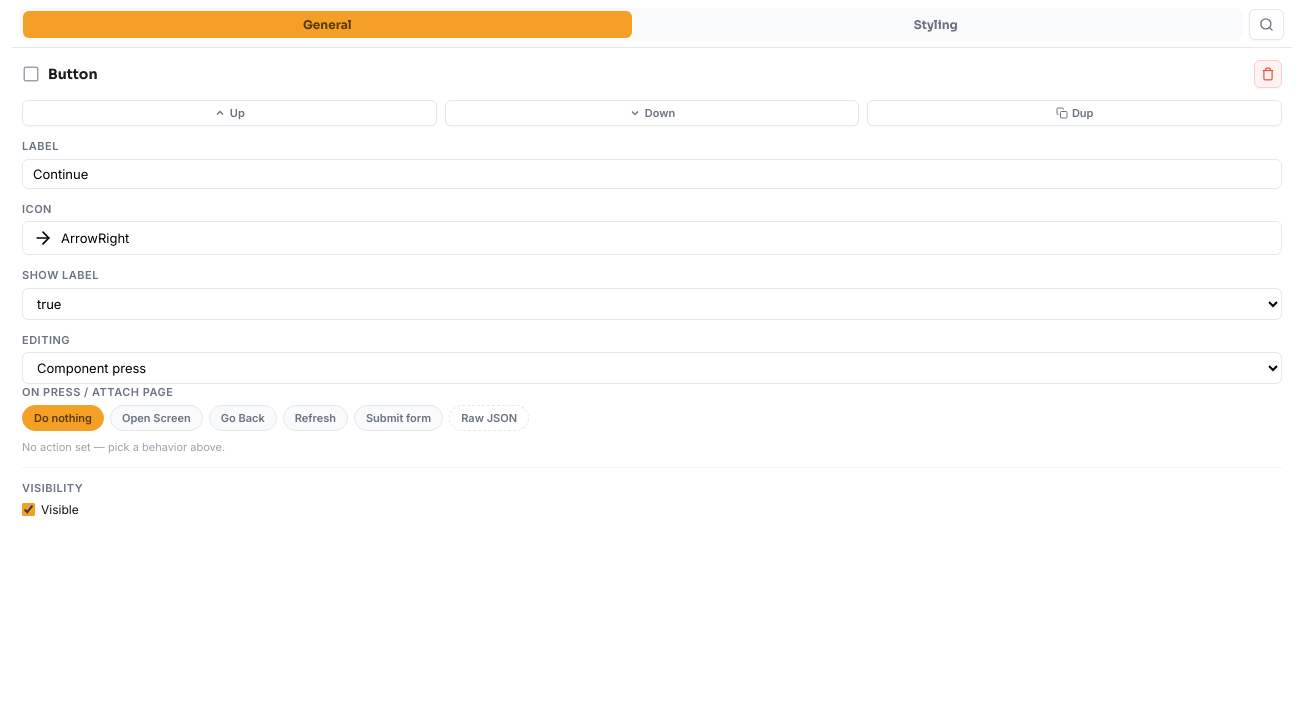
it: keeps button content in General and shape in Styling
Expected: the field showing "Continue" is shown, [22,158,1282,188]
Expected: the button with aria-label "Choose icon" is shown, [22,221,1282,255]
Click the button "Styling" at (936, 24), box [632,11,1240,38]
(page scrolled)
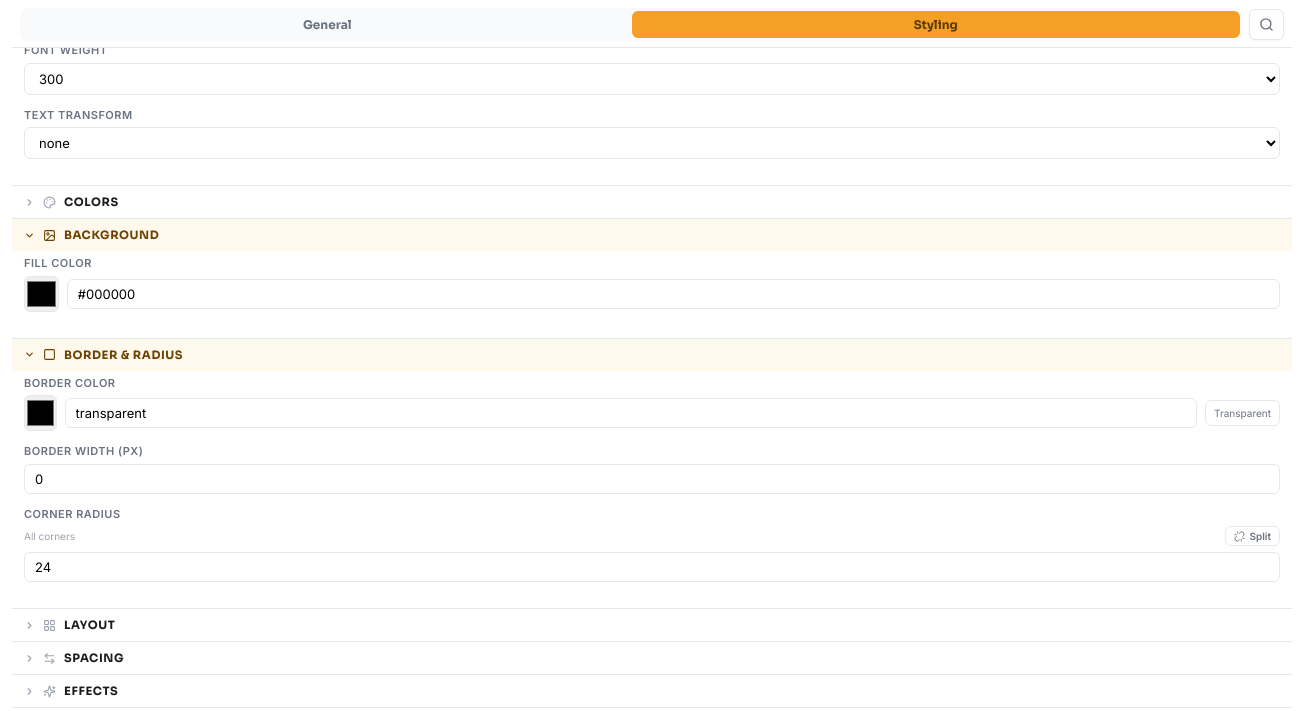
Expected: the field showing "Continue" is not shown
Click the button "Layout" at (90, 625), box [12,609,1292,641]
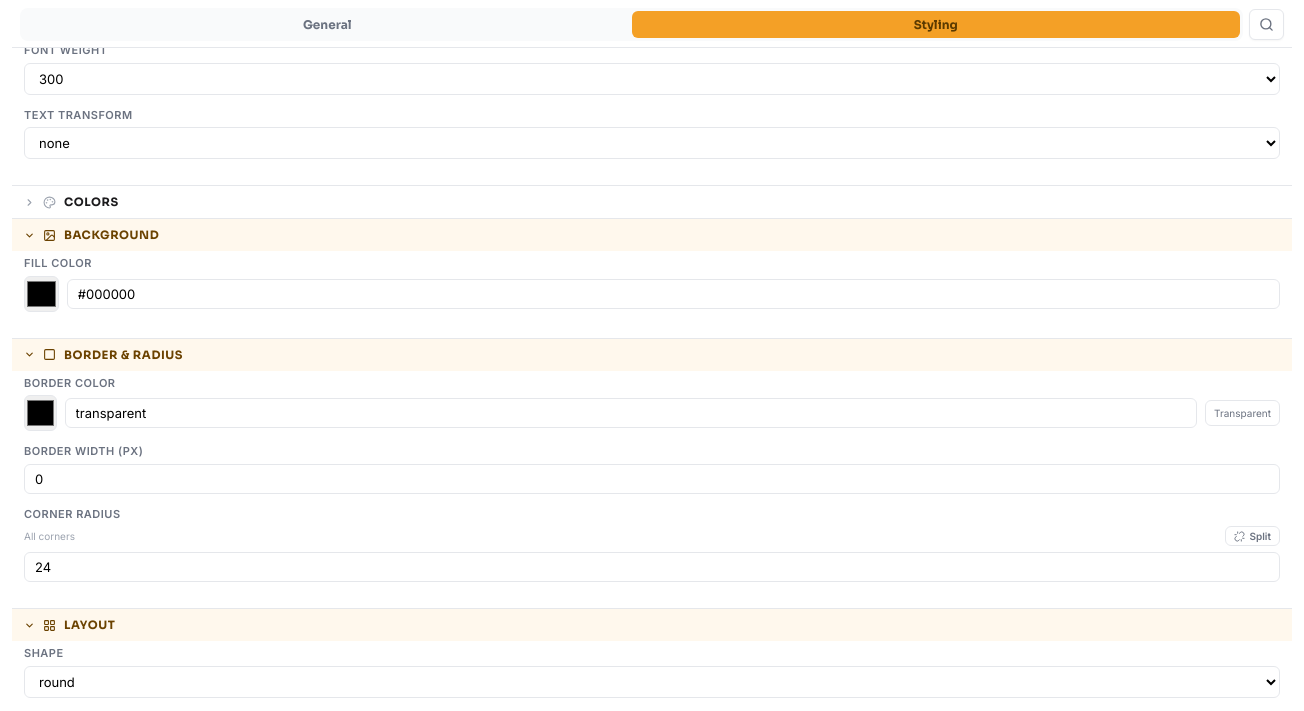
Expected: the dropdown showing "round" below "Shape" is shown, [24,666,1280,698]
